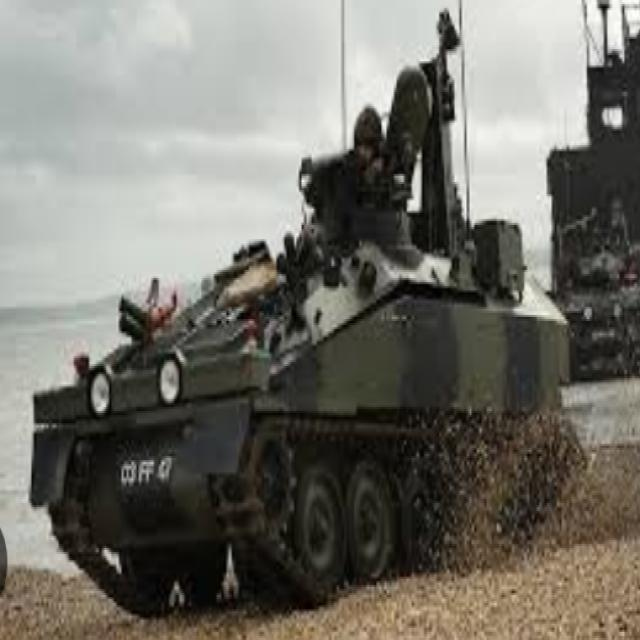MIL_APC: (29, 168, 586, 580)
